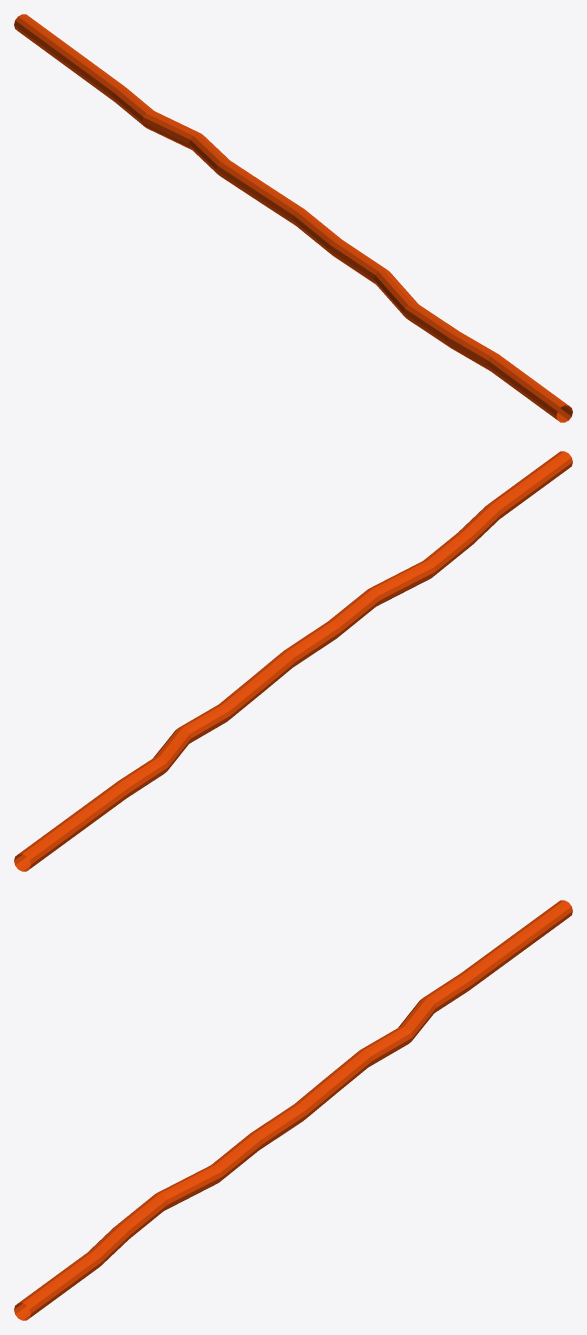
File: Cable5.fbx
3 renders of one model, top to bottom at view 1: azimuth 30°, elevation 25°; view 2: azimuth 150°, elevation 25°; view 3: azimuth 330°, elevation 25°, orthographic. The views are drawn at different scales.
Parts seen in each view (by area): view 1: Vert.004; view 2: Vert.004; view 3: Vert.004.
Part boxes in pixels (left/top/right/bottom): Vert.004: left=14, top=14, right=572, bottom=422; Vert.004: left=14, top=451, right=572, bottom=871; Vert.004: left=14, top=900, right=572, bottom=1320.
Bounding box in the file's own units: 3.46 × 2 × 112.
